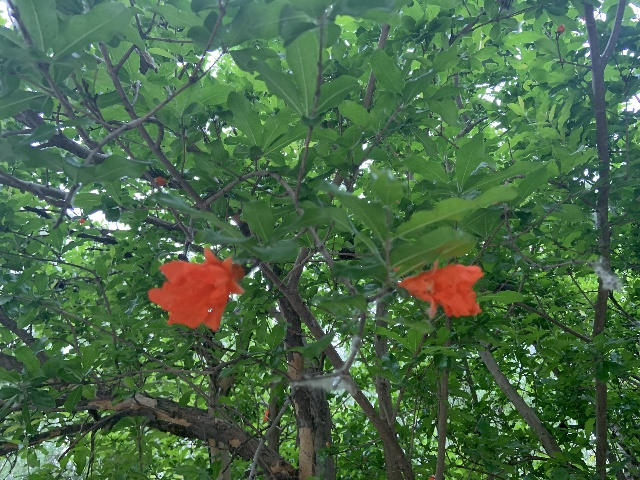bud: (154, 176, 166, 185), (557, 25, 564, 32)
flower: (147, 246, 245, 332), (396, 259, 484, 319)
